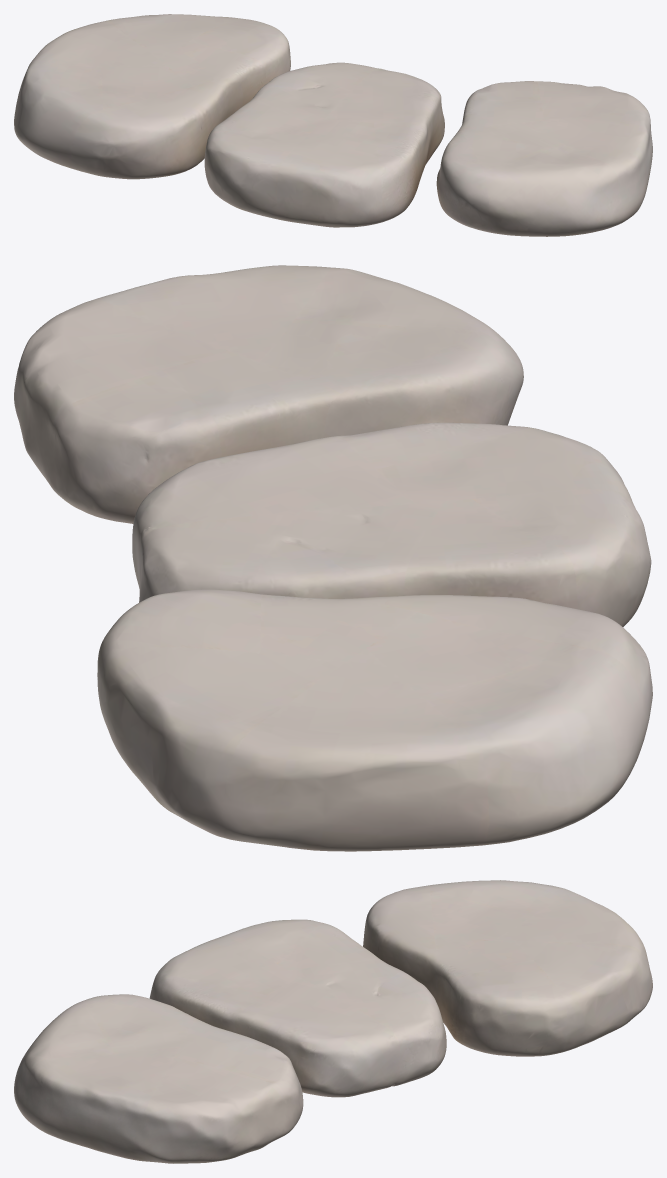
File: stone.glb
The picture shows the model from 3 angles, top to bottom: view 1: azimuth 30°, elevation 25°; view 2: azimuth 150°, elevation 25°; view 3: azimuth 270°, elevation 25°; orthographic projection. The views are drawn at different scales.
Visible parts, largest first — view 1: tripo_node_6f2b958a-8694-408a-8a4c-9ec722c1608d; view 2: tripo_node_6f2b958a-8694-408a-8a4c-9ec722c1608d; view 3: tripo_node_6f2b958a-8694-408a-8a4c-9ec722c1608d.
Part boxes in pixels (x1=…): tripo_node_6f2b958a-8694-408a-8a4c-9ec722c1608d: x1=14, y1=14, x2=652, y2=236; tripo_node_6f2b958a-8694-408a-8a4c-9ec722c1608d: x1=14, y1=265, x2=652, y2=851; tripo_node_6f2b958a-8694-408a-8a4c-9ec722c1608d: x1=14, y1=880, x2=652, y2=1163.
Size of the model in its own units: 7.65 by 0.9988 by 8.5.
Materials: 1 (1 with a texture image).
